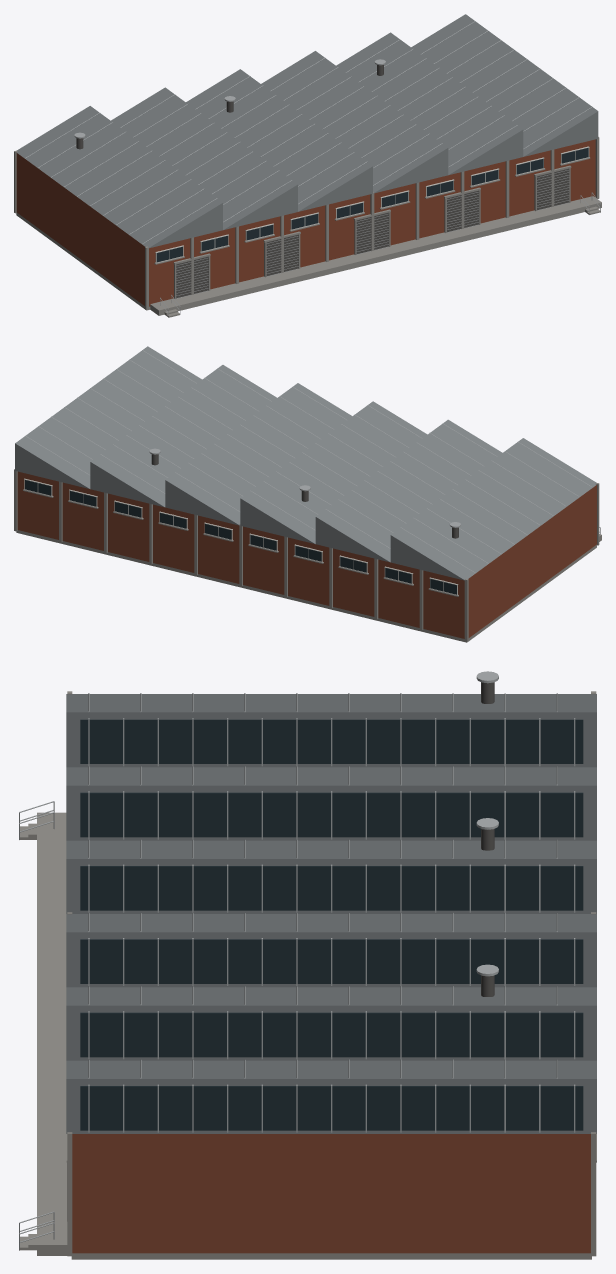
Rendered from Scenery_FactoryHall.fbx.
3 views of the same model, one above another, from view 1: azimuth 30°, elevation 25°; view 2: azimuth 150°, elevation 25°; view 3: azimuth 270°, elevation 25° (orthographic). The views are drawn at different scales.
Parts seen in each view (by area): view 1: Scenery_FactoryHall_LOD0; view 2: Scenery_FactoryHall_LOD0; view 3: Scenery_FactoryHall_LOD0.
Part boxes in pixels (left/top/right/bottom): Scenery_FactoryHall_LOD0: left=14, top=14, right=601, bottom=317; Scenery_FactoryHall_LOD0: left=14, top=346, right=601, bottom=642; Scenery_FactoryHall_LOD0: left=19, top=671, right=596, bottom=1259.
Size of what is drawn, in the model's own units: 60.35 by 11.57 by 33.34.
